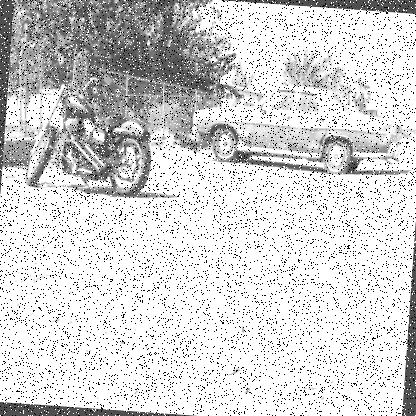Car: (192, 74, 404, 178)
